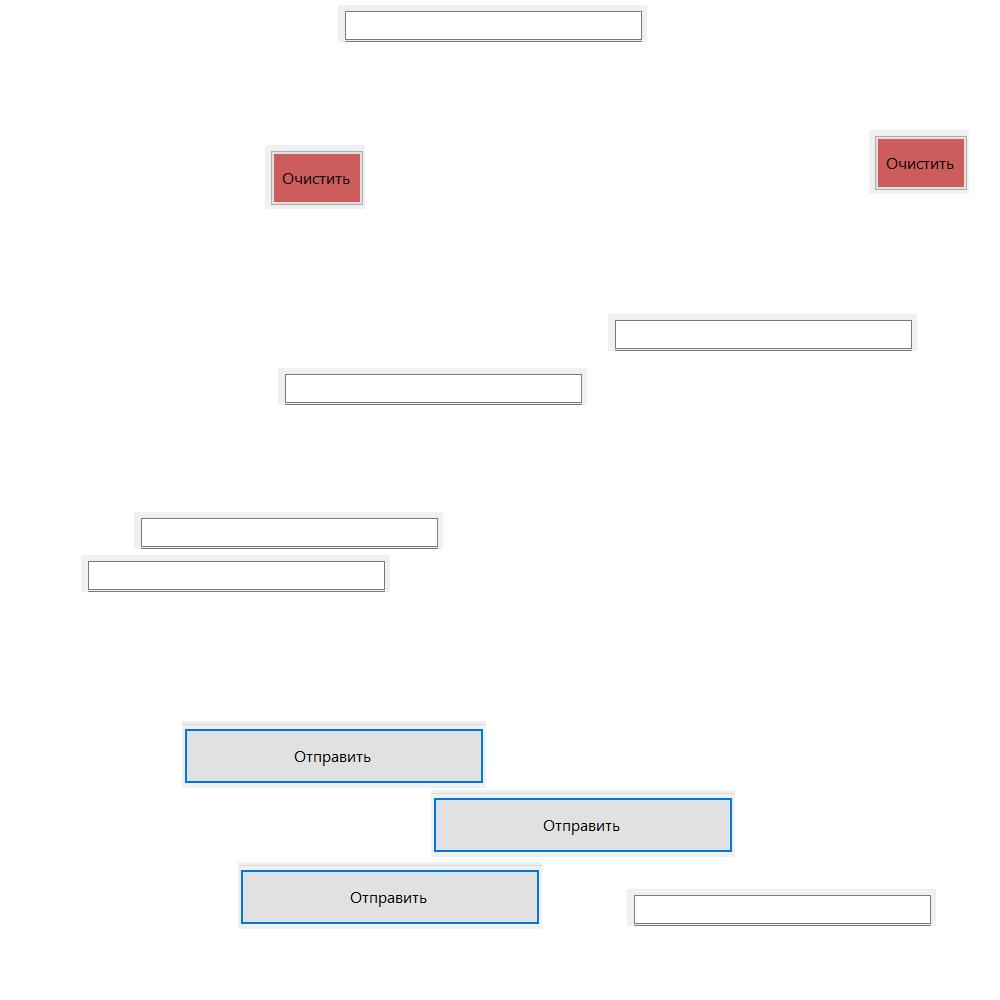Button: (182, 721, 486, 788), (431, 790, 735, 857), (238, 862, 542, 929), (265, 145, 365, 209), (869, 130, 969, 194)
EditText-: (134, 512, 443, 549), (278, 368, 587, 405), (627, 889, 936, 926), (338, 5, 647, 42), (608, 314, 917, 351), (81, 555, 390, 592)
